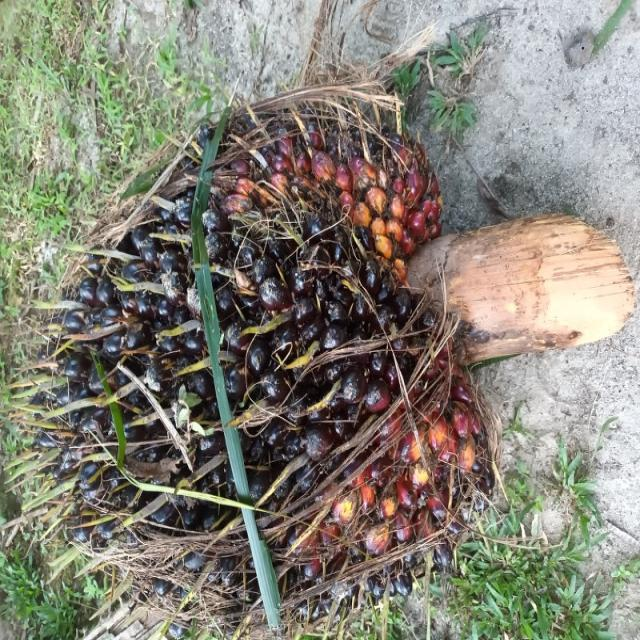fraksi 00: (1, 26, 428, 627)
